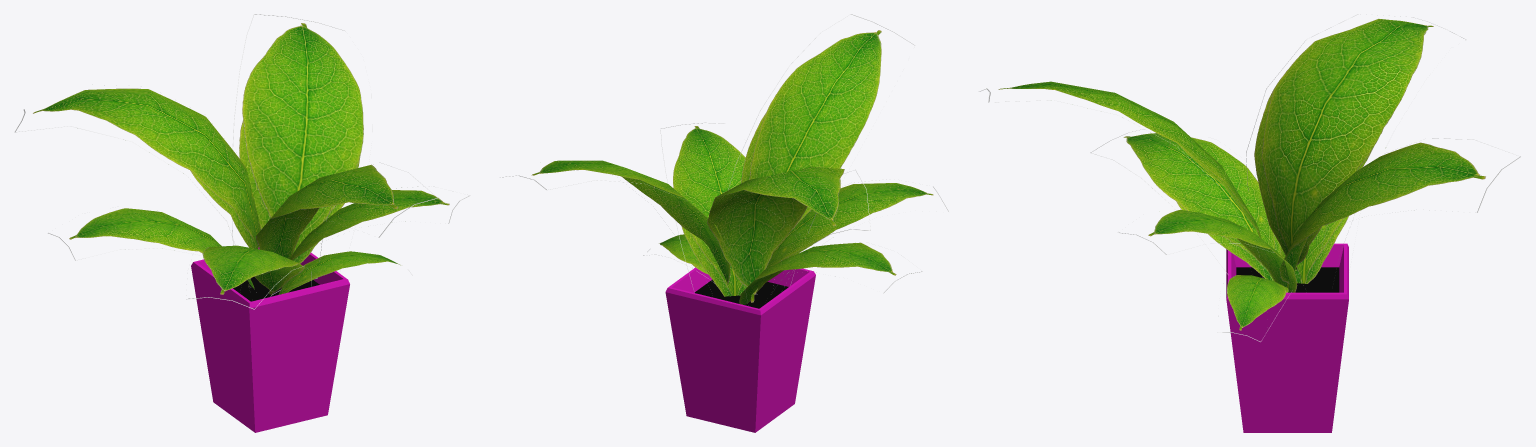
The model's file is plant3.FBX.
3 renders of one model, left to right at view 1: azimuth 30°, elevation 25°; view 2: azimuth 150°, elevation 25°; view 3: azimuth 270°, elevation 25°, orthographic. The views are drawn at different scales.
Visible parts, largest first — view 1: Box013, Box015; view 2: Box013, Box015; view 3: Box013, Box015.
Boxes of the visible parts, <box> form: Box013: <box>14,14,470,309</box>; Box015: <box>191,247,349,432</box>; Box013: <box>500,14,948,305</box>; Box015: <box>665,267,815,432</box>; Box013: <box>979,14,1520,341</box>; Box015: <box>1226,243,1348,432</box>.
Bounding box in the file's own units: 52.97 × 43.49 × 65.32.
Materials: 3 (1 with a texture image).
